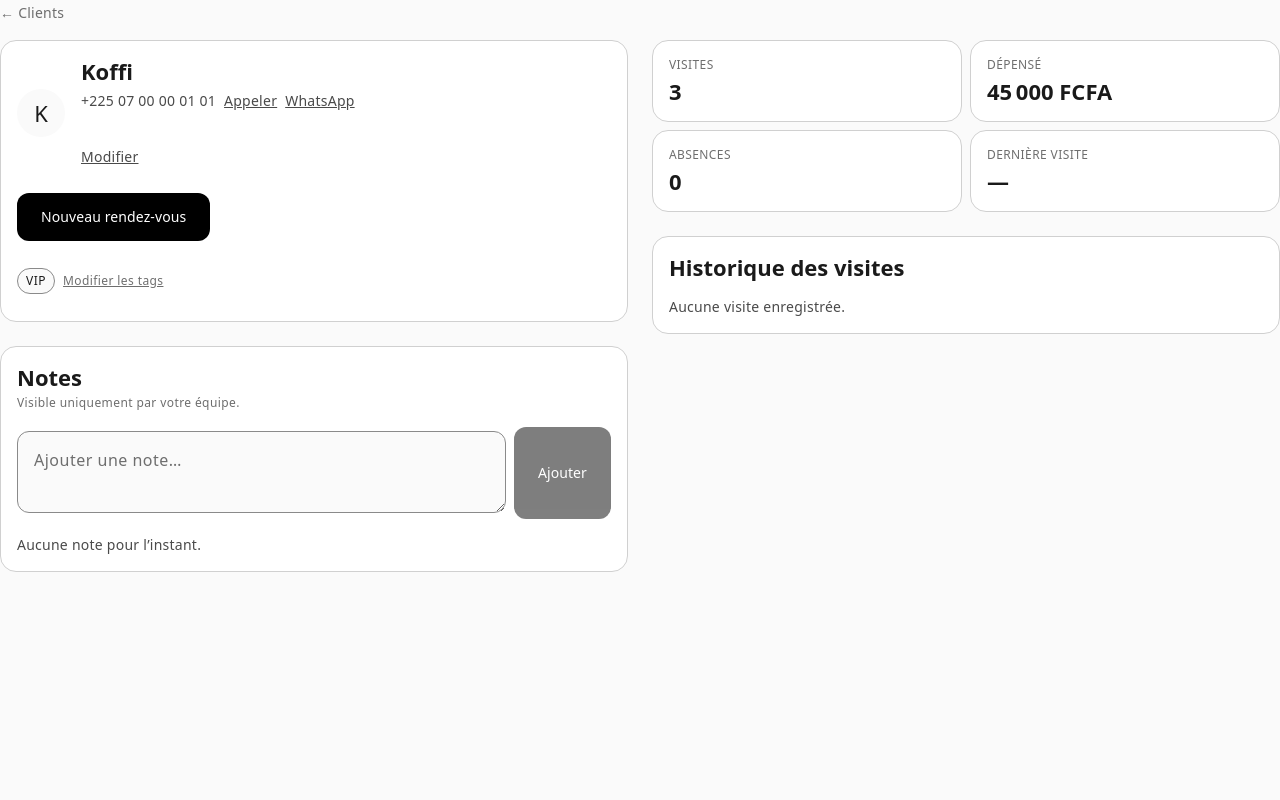
it: ClientCardClient — « Modifier » the number of a GUEST card › a saved number crosses normalized, closes the dialog, reloads the card and says so
This screenshot has width=1280, height=800.
Expected: the heading "Koffi" is shown, [81,56,133,86]
Click the button with aria-label "Modifier le numéro" at coordinates (110, 157), box [81,133,138,181]
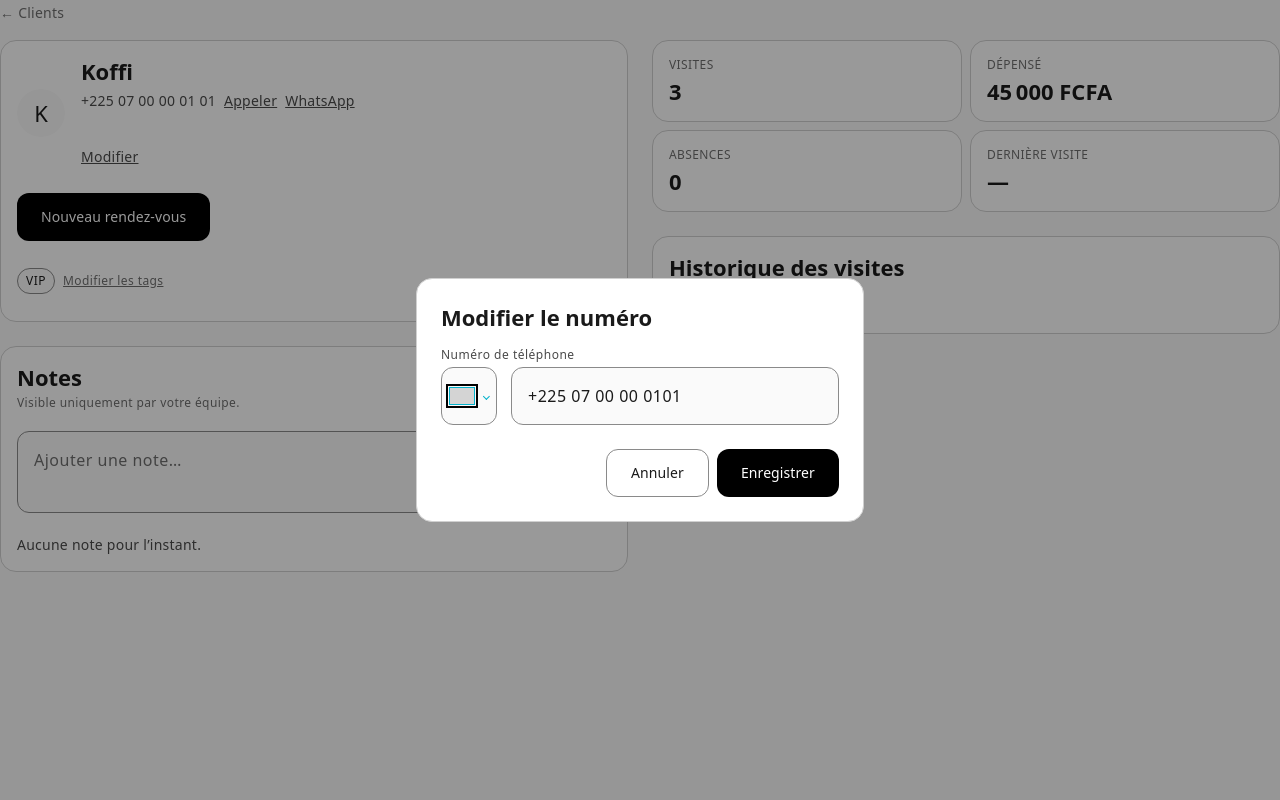
Replace the text in the field labelled "Numéro de téléphone" with "+225 05 05 12 34 56" at coordinates (675, 396), box [511,367,839,425]
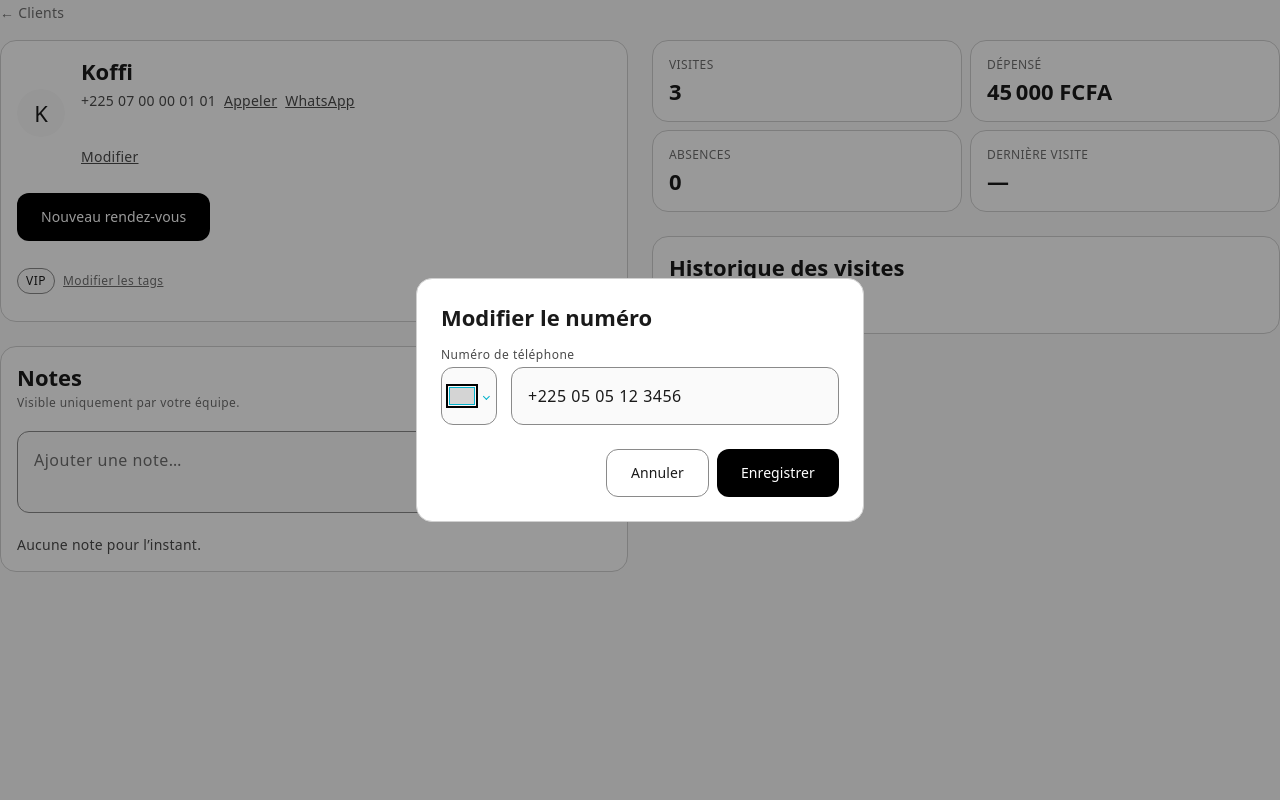
Expected: the button "Enregistrer" is enabled
Click the button "Enregistrer" at coordinates (778, 473), box [717,449,839,497]
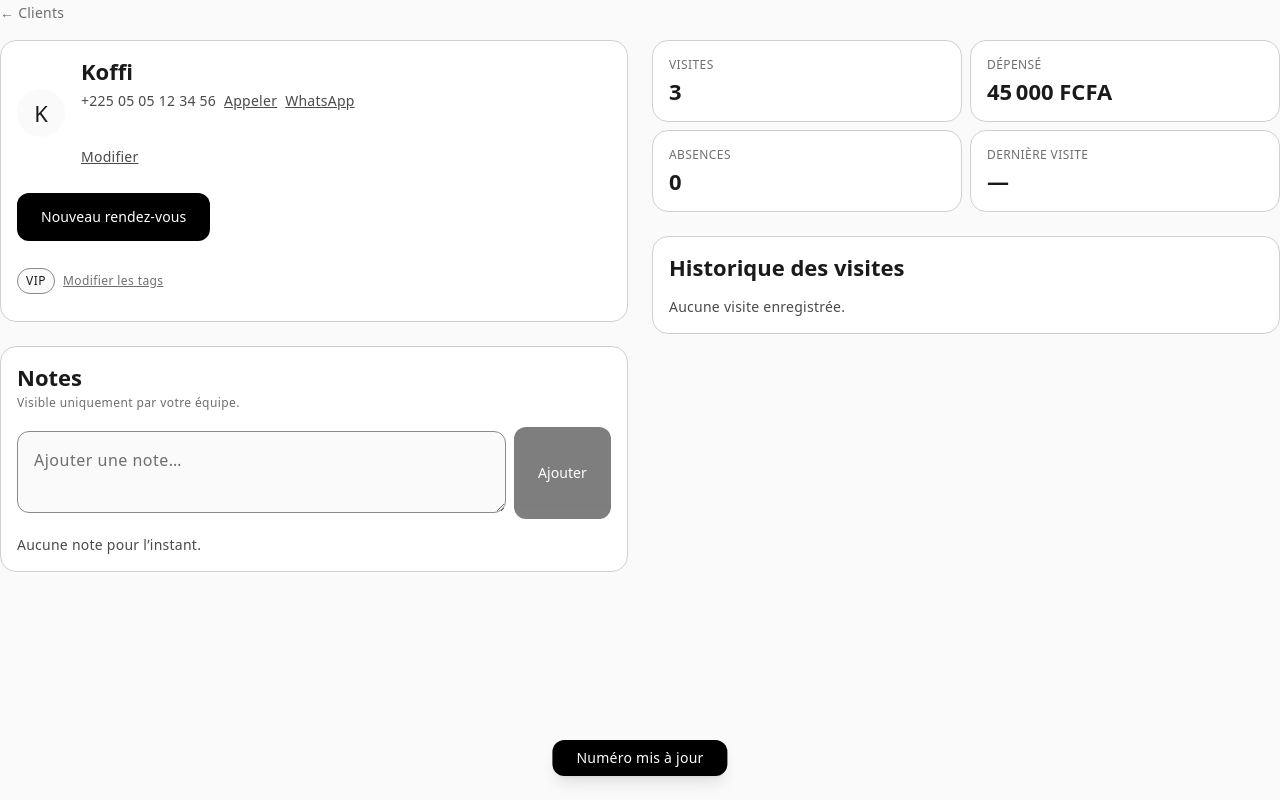
Expected: the text "Numéro mis à jour" is shown, [552,740,728,776]
Expected: the dialog is gone
Expected: the text "+225 05 05 12 34 56" is shown, [81,91,216,111]
